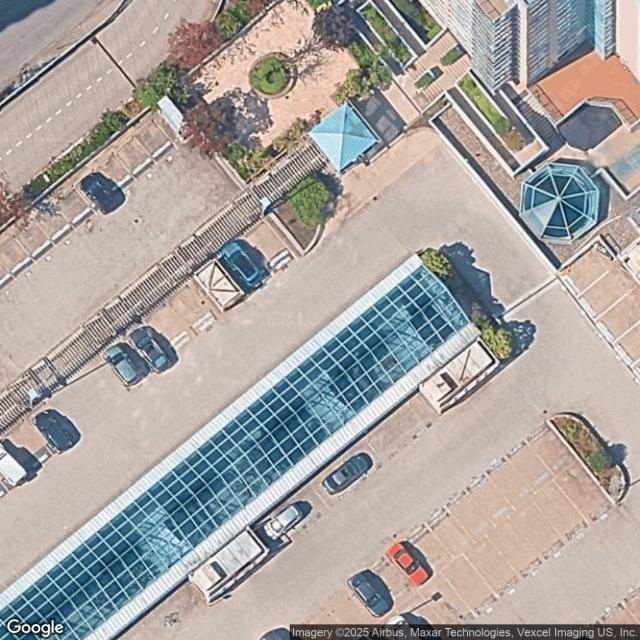car: (221, 240, 268, 288), (386, 540, 432, 588), (323, 453, 373, 495), (32, 409, 76, 456), (127, 327, 172, 372), (348, 572, 391, 617), (102, 343, 142, 389), (80, 174, 119, 215), (263, 505, 304, 540)
lot_boundary: (0, 114, 639, 639)
objects: (187, 532, 268, 601)
